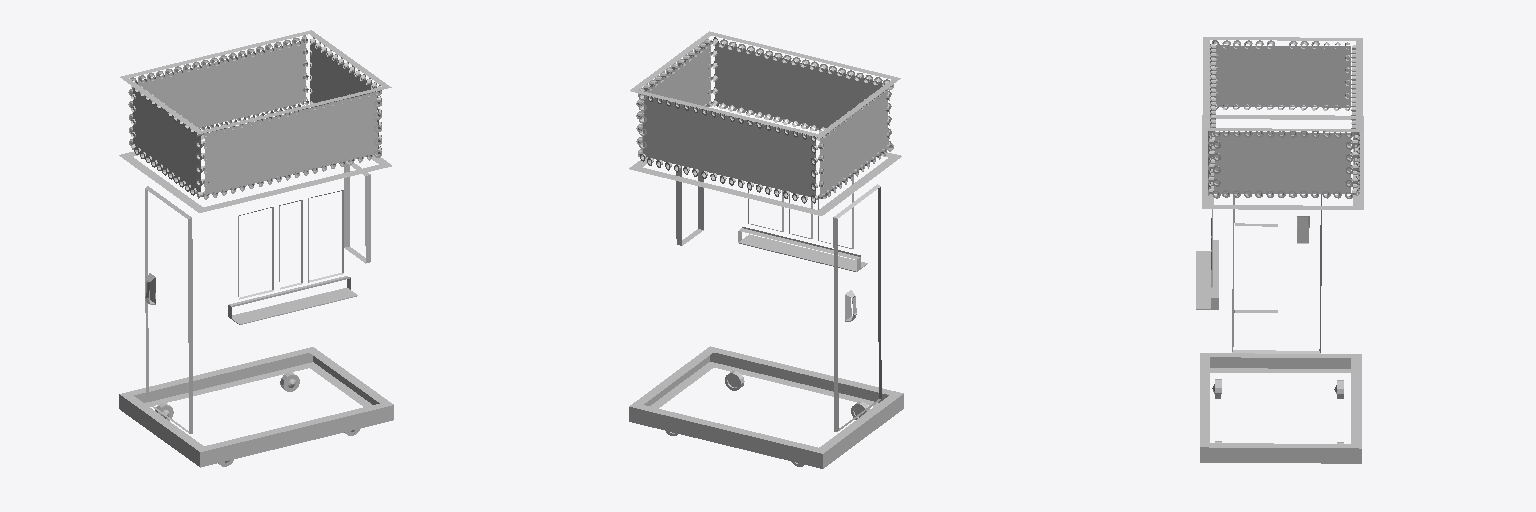
Rendered from CR_ticketboothframe2.obj.
The picture shows the model from 3 angles: view 1: azimuth 30°, elevation 25°; view 2: azimuth 150°, elevation 25°; view 3: azimuth 270°, elevation 25°; orthographic projection.
Visible parts, largest first — view 1: Object_5; view 2: Object_5; view 3: Object_5.
Part boxes in pixels (bbox=[...]): Object_5: bbox=[119, 30, 393, 467]; Object_5: bbox=[629, 31, 903, 468]; Object_5: bbox=[1196, 37, 1363, 463].
Bounding box in the file's own units: 37.68 × 63.39 × 27.81.